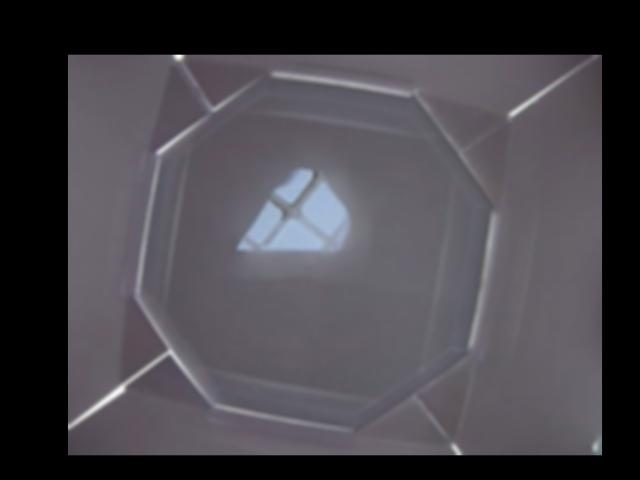China: (236, 169, 350, 252)
